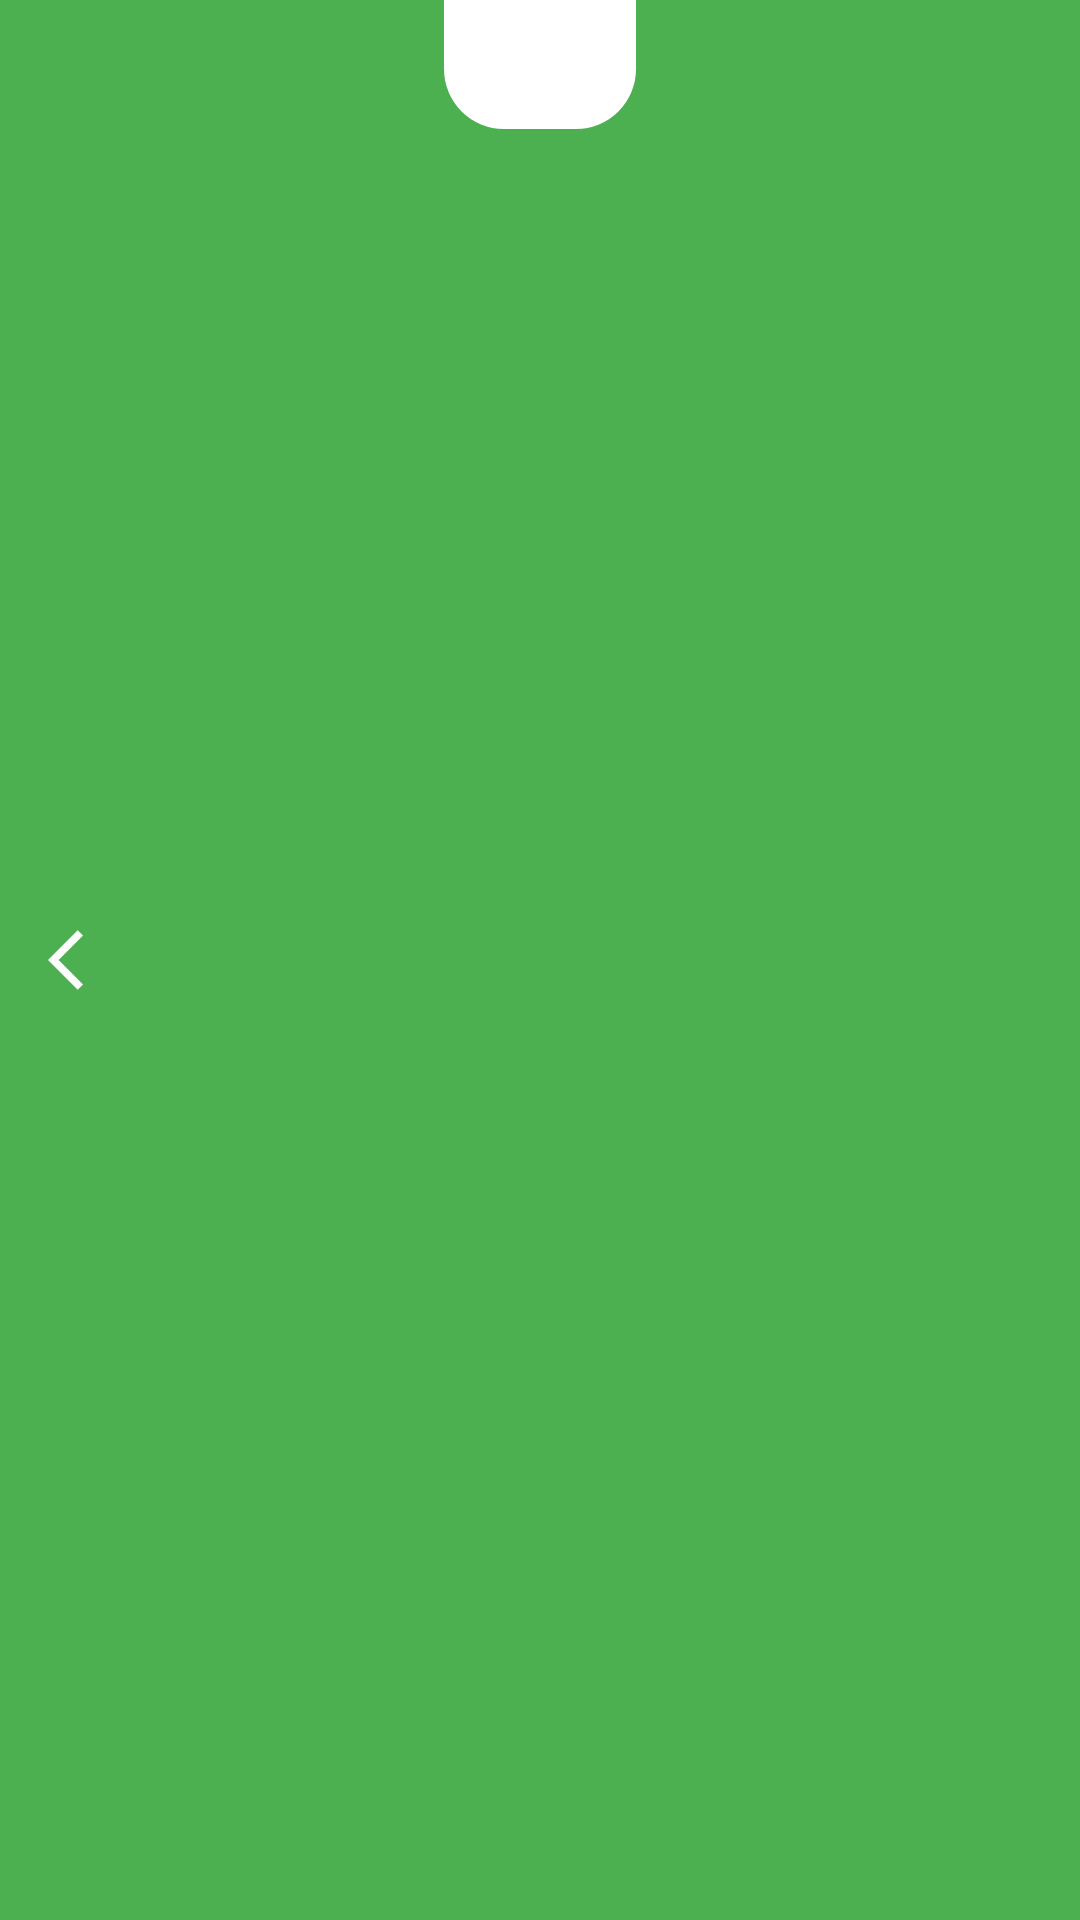

Icons on this 1080px×1920px Android screen, each with its box as bbox=(x1, y1, x2, y2):
voltar: bbox=(48, 930, 83, 990)
